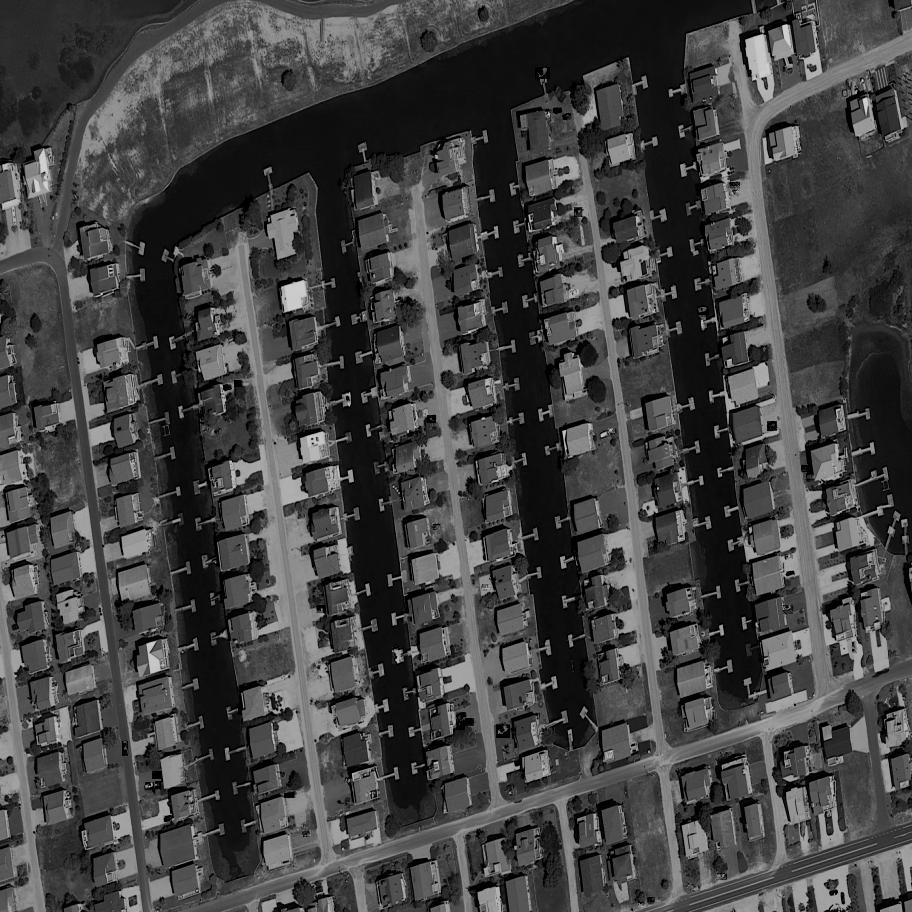ship: (535, 67, 552, 81), (495, 725, 510, 739), (392, 647, 401, 664), (697, 307, 710, 316)
small-vehicle: (144, 782, 156, 792), (767, 421, 778, 431), (426, 415, 438, 424), (569, 290, 580, 299), (456, 721, 467, 730), (575, 208, 585, 217), (163, 815, 173, 824), (122, 741, 128, 756), (316, 605, 327, 613), (457, 713, 466, 722), (786, 571, 796, 579), (152, 771, 162, 779), (732, 189, 741, 197), (563, 113, 572, 121), (805, 474, 815, 481), (784, 606, 793, 613), (784, 555, 792, 562), (648, 897, 656, 904), (155, 782, 163, 789), (284, 793, 295, 798), (432, 524, 441, 530), (729, 182, 739, 187), (466, 719, 473, 726), (303, 831, 311, 836), (802, 466, 810, 471), (345, 779, 353, 784), (716, 875, 726, 879), (856, 86, 859, 98), (234, 381, 241, 386), (691, 885, 698, 890), (482, 585, 490, 589), (223, 385, 230, 389), (853, 641, 855, 653), (609, 429, 615, 433), (554, 109, 560, 113), (638, 902, 643, 906)
